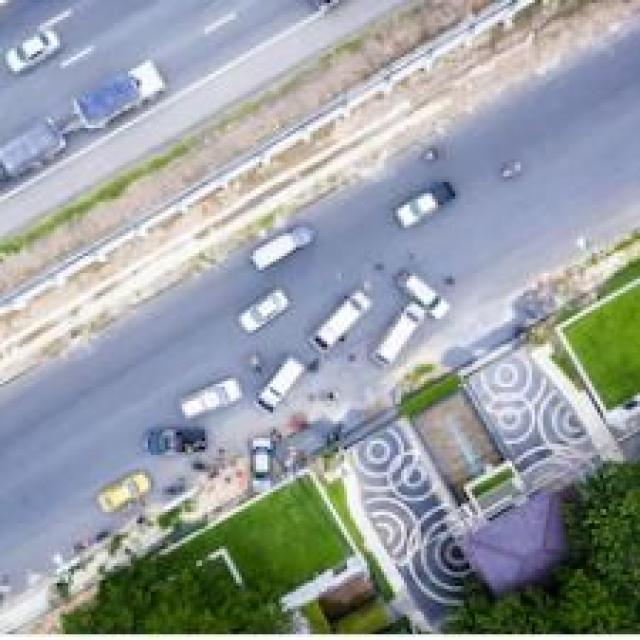traffic_incident: (367, 256, 455, 378), (128, 421, 219, 466), (242, 424, 276, 495)
